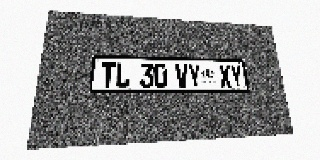0: (154, 63, 167, 88)
3: (140, 63, 154, 88)
L: (115, 62, 130, 88)
T: (100, 62, 116, 88)
V: (175, 64, 189, 87)
X: (218, 65, 232, 87)
Y: (188, 64, 201, 87), (230, 65, 243, 87)
